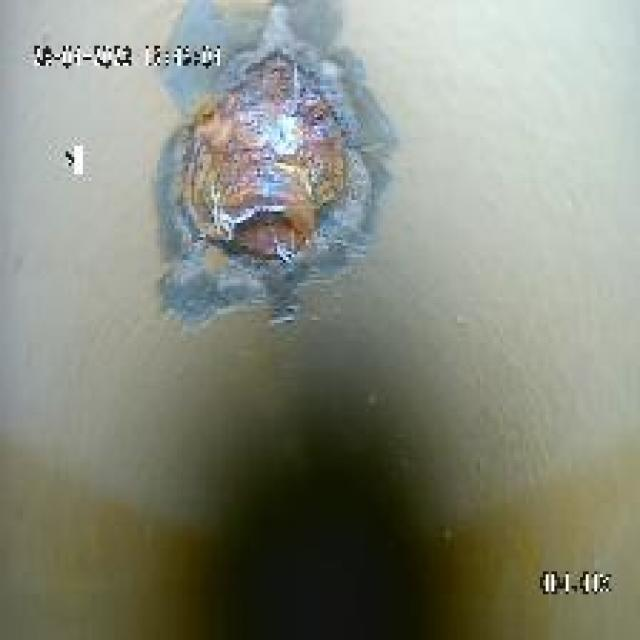ferrule: (172, 86, 354, 263)
